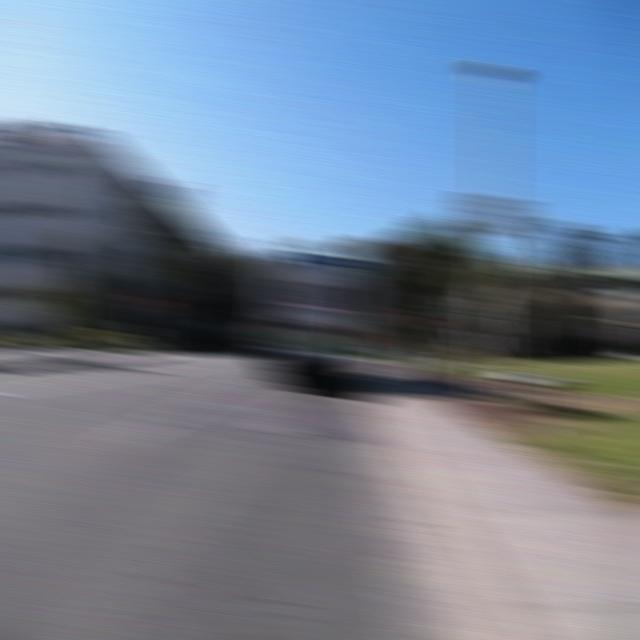stop_sign: (402, 308, 438, 332), (132, 290, 167, 312)
